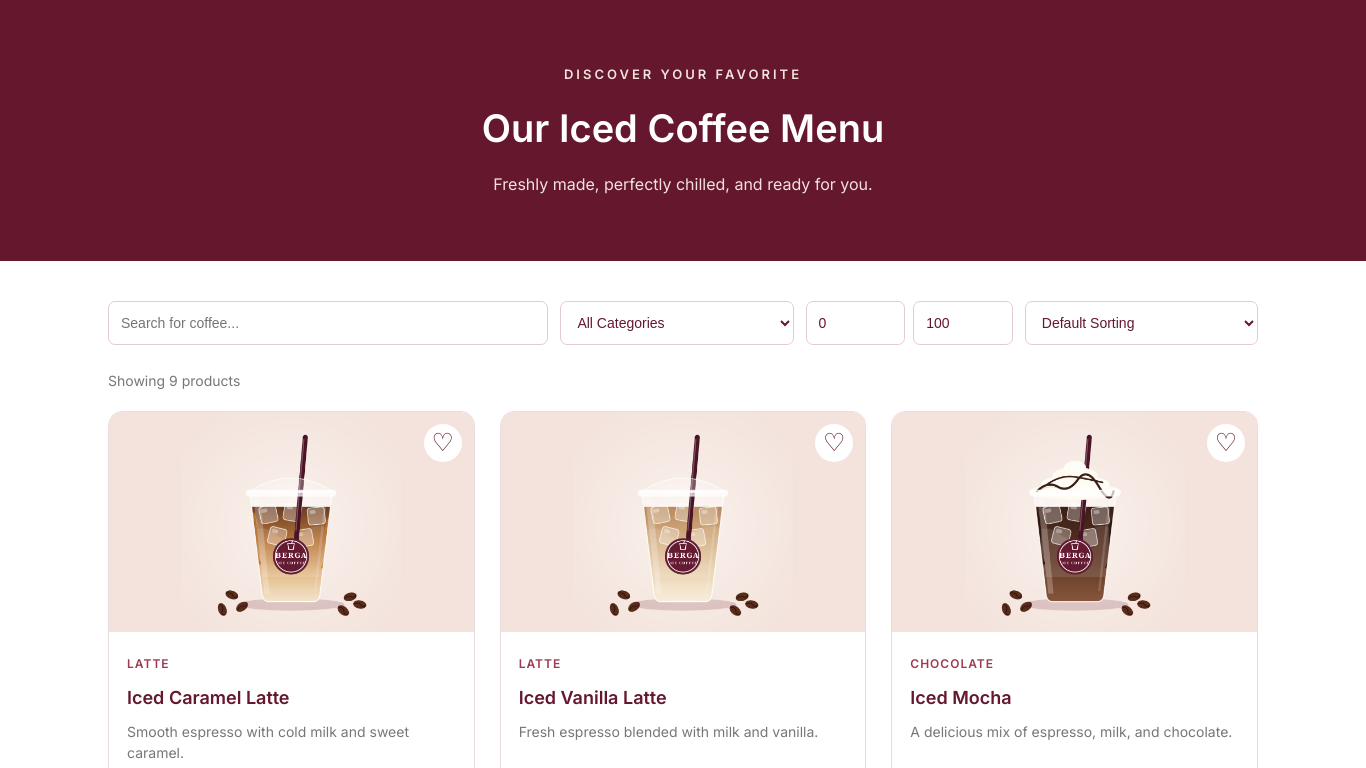
Test case: Product filtering › filters by the search text
Type "mocha" into the field with placeholder "Search for coffee..." at (328,322), box [108, 300, 548, 344]
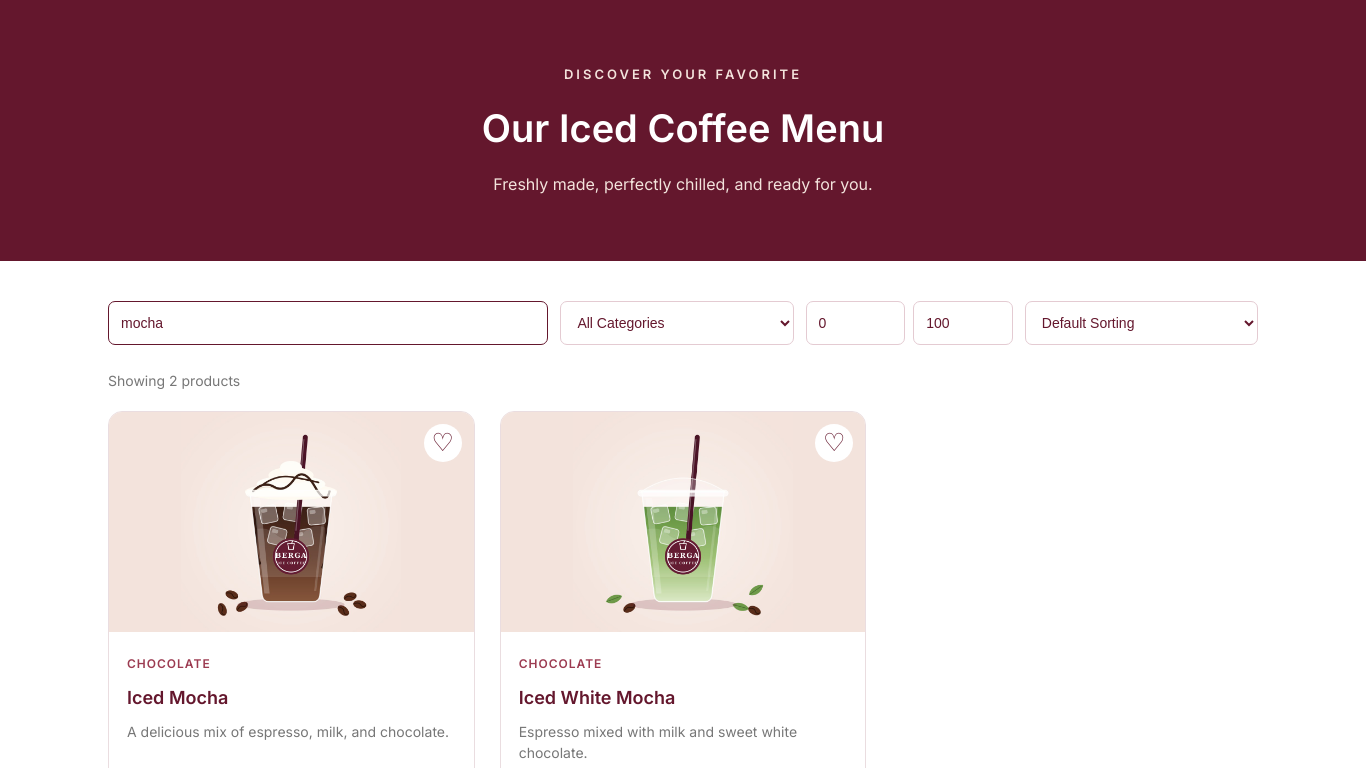
Expected: the heading "Iced Mocha" is shown, [127, 686, 228, 708]
Now the text "Showing 2 products" is shown, box [108, 372, 240, 388]
